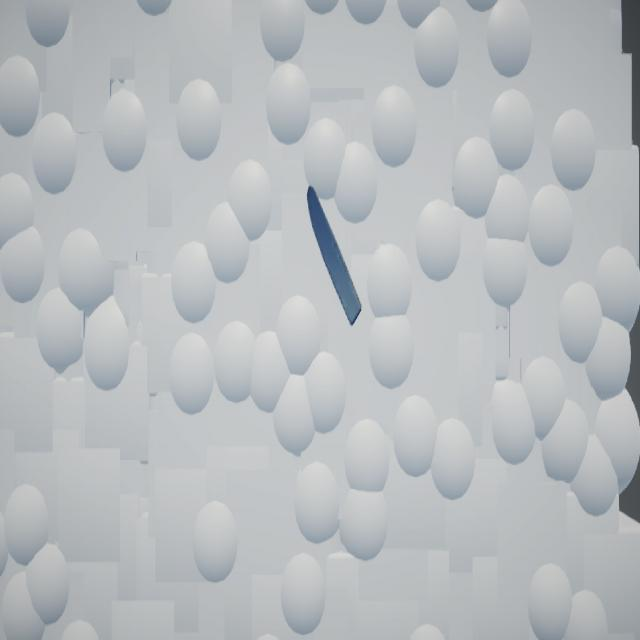top_knife: (308, 187, 363, 328)
